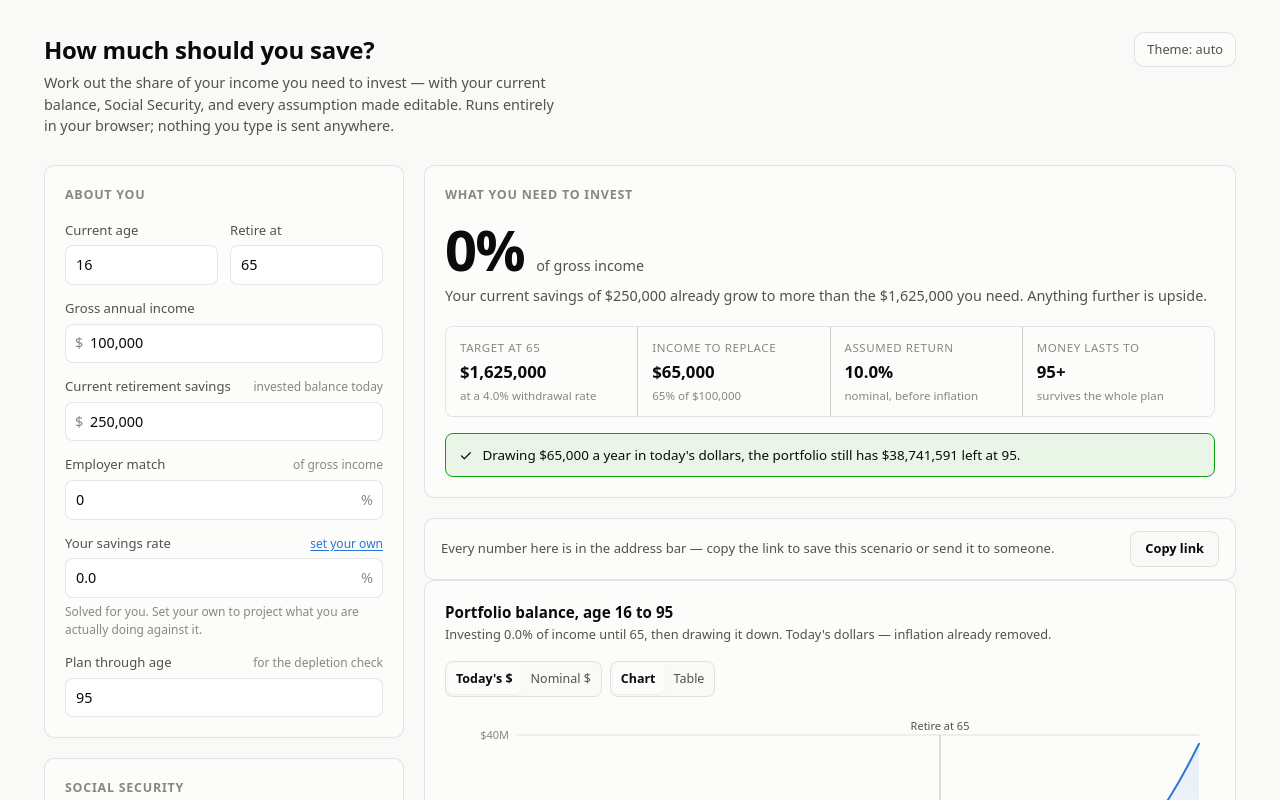
Test case: currency formatting › groups thousands as you type
Replace the text in the field labelled "Gross annual income" with "210000". click: (224, 343)
box: [65,324,383,363]
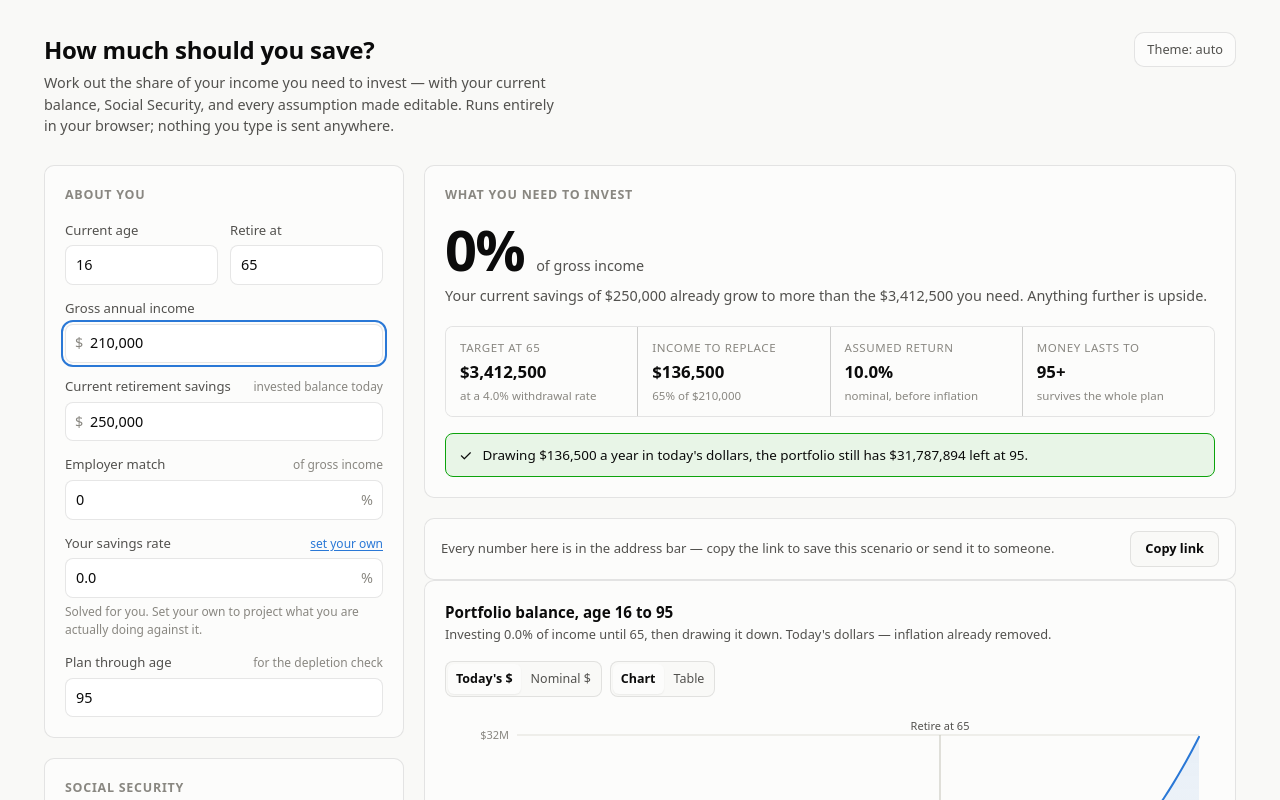
Result: the field labelled "Gross annual income" holds "210,000" at [65,324,383,363]
